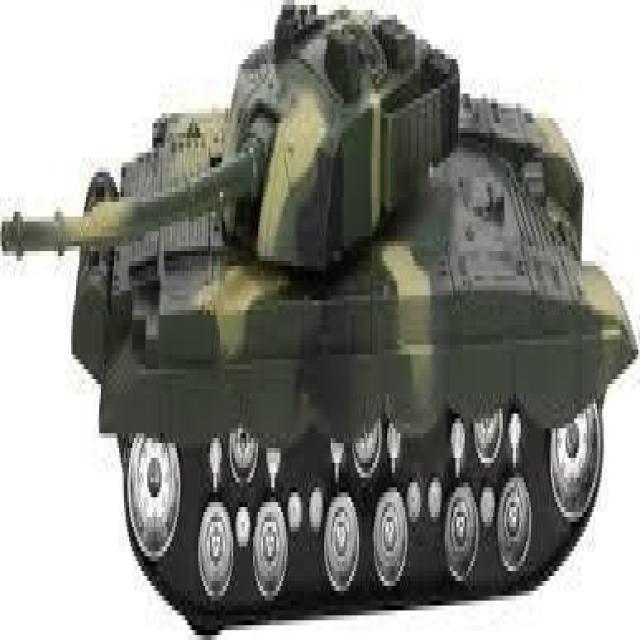MIL_MBT: (7, 17, 568, 603)
